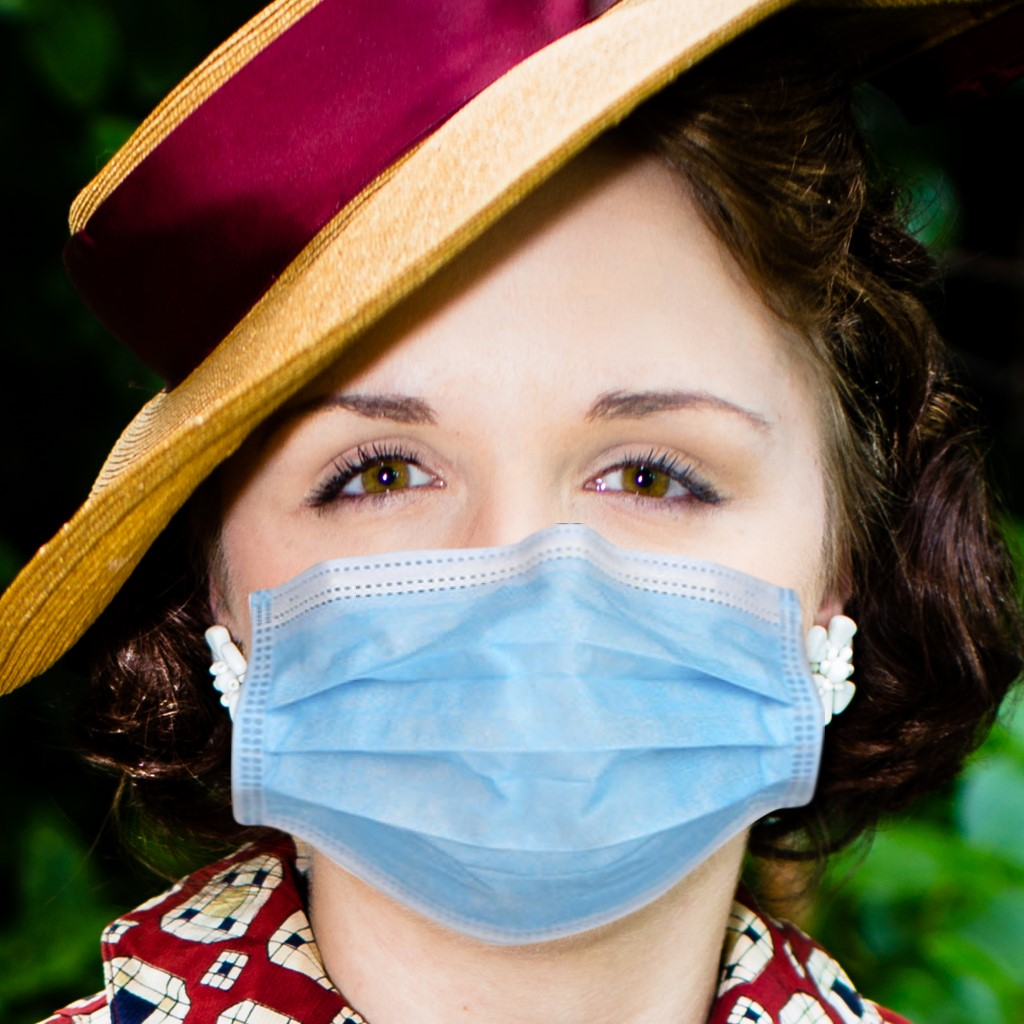con_mascara: (212, 182, 839, 913)
